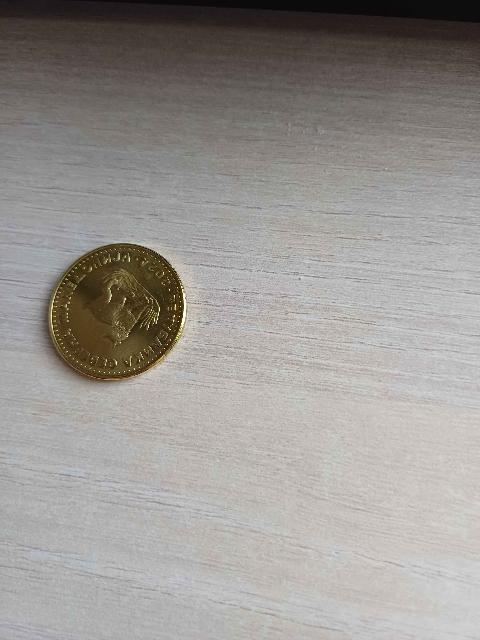coin: (49, 244, 186, 379)
